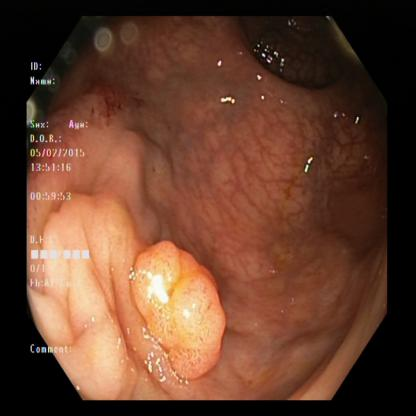Labels: (28, 57, 95, 362)
Polyps: (133, 230, 235, 380)
